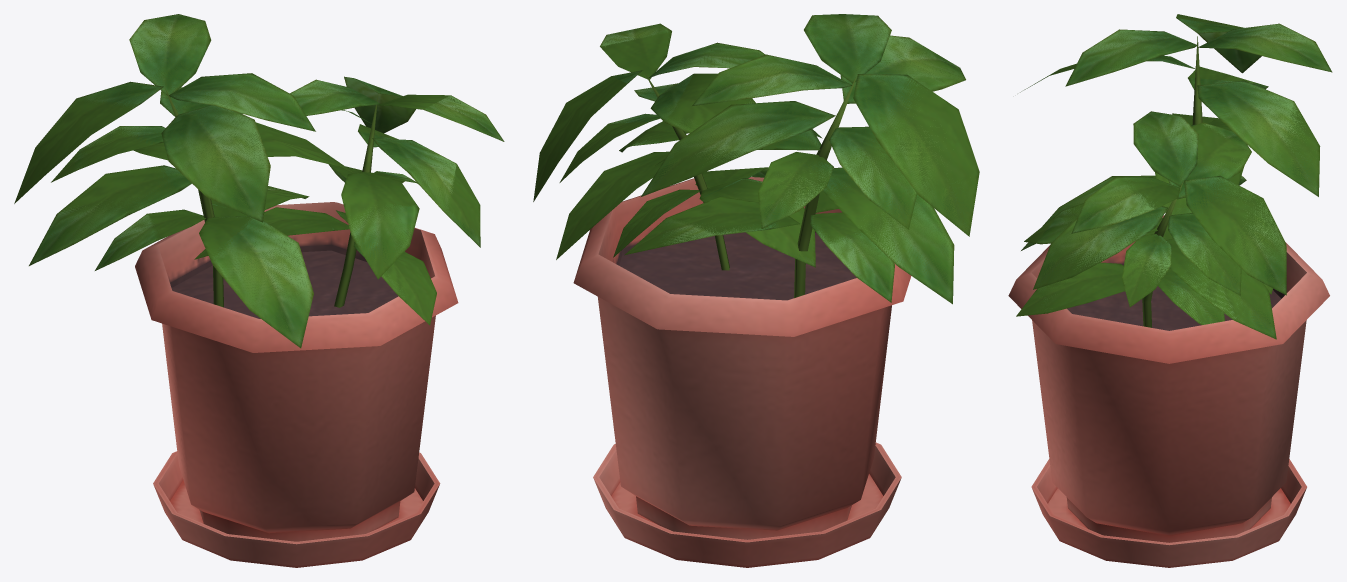
File: set_pot_06.fbx
The picture shows the model from 3 angles, left to right: view 1: azimuth 30°, elevation 25°; view 2: azimuth 150°, elevation 25°; view 3: azimuth 270°, elevation 25°; orthographic projection. The views are drawn at different scales.
Parts seen in each view (by area): view 1: flowerpot_06, saucer_06; view 2: flowerpot_06, saucer_06; view 3: flowerpot_06, saucer_06.
Boxes of the visible parts, x1,y1,x2,y2 form: flowerpot_06: (14,14,504,541); saucer_06: (153,451,440,567); flowerpot_06: (533,14,979,539); saucer_06: (593,442,901,567); flowerpot_06: (1008,14,1332,542); saucer_06: (1031,459,1306,567).
Bounding box in the file's own units: 33.39 × 36.21 × 24.1.
